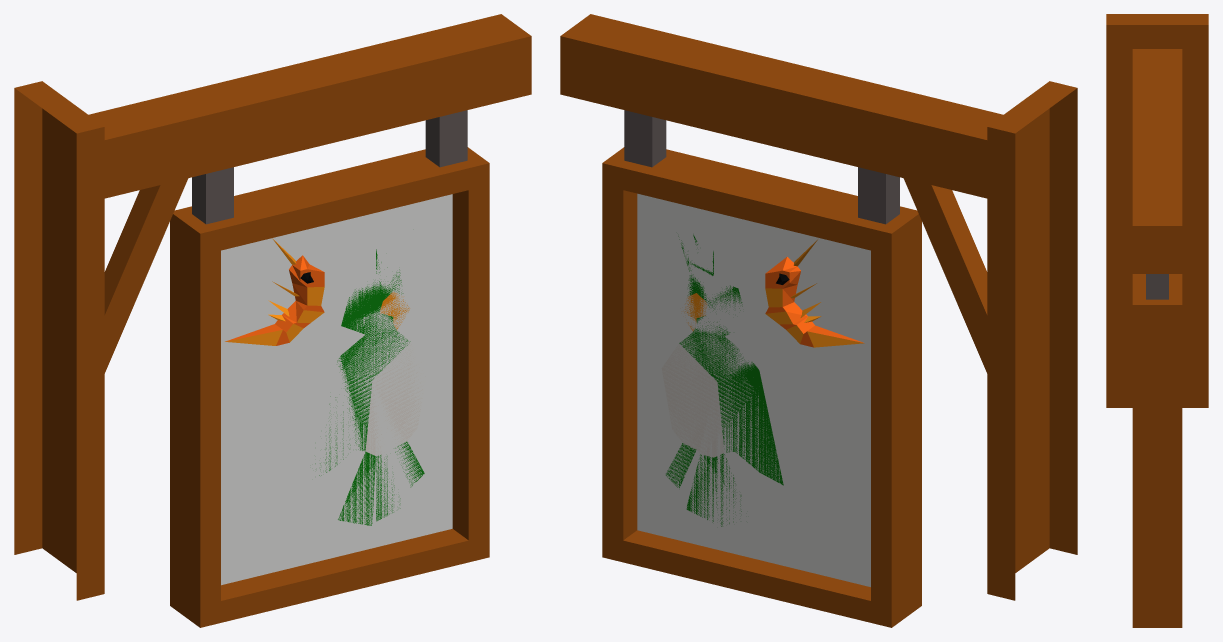
The model's file is model_loc_1057_q.obj.
The picture shows the model from 3 angles, left to right: view 1: azimuth 30°, elevation 25°; view 2: azimuth 150°, elevation 25°; view 3: azimuth 270°, elevation 25°; orthographic projection. The views are drawn at different scales.
Parts seen in each view (by area): view 1: 1931; view 2: 1931; view 3: 1931.
Boxes of the visible parts, x1=… form: 1931: x1=14, y1=14, x2=531, y2=627; 1931: x1=560, y1=14, x2=1077, y2=627; 1931: x1=1106, y1=14, x2=1208, y2=627.
Size of the model in its own units: 135 by 148 by 31.
